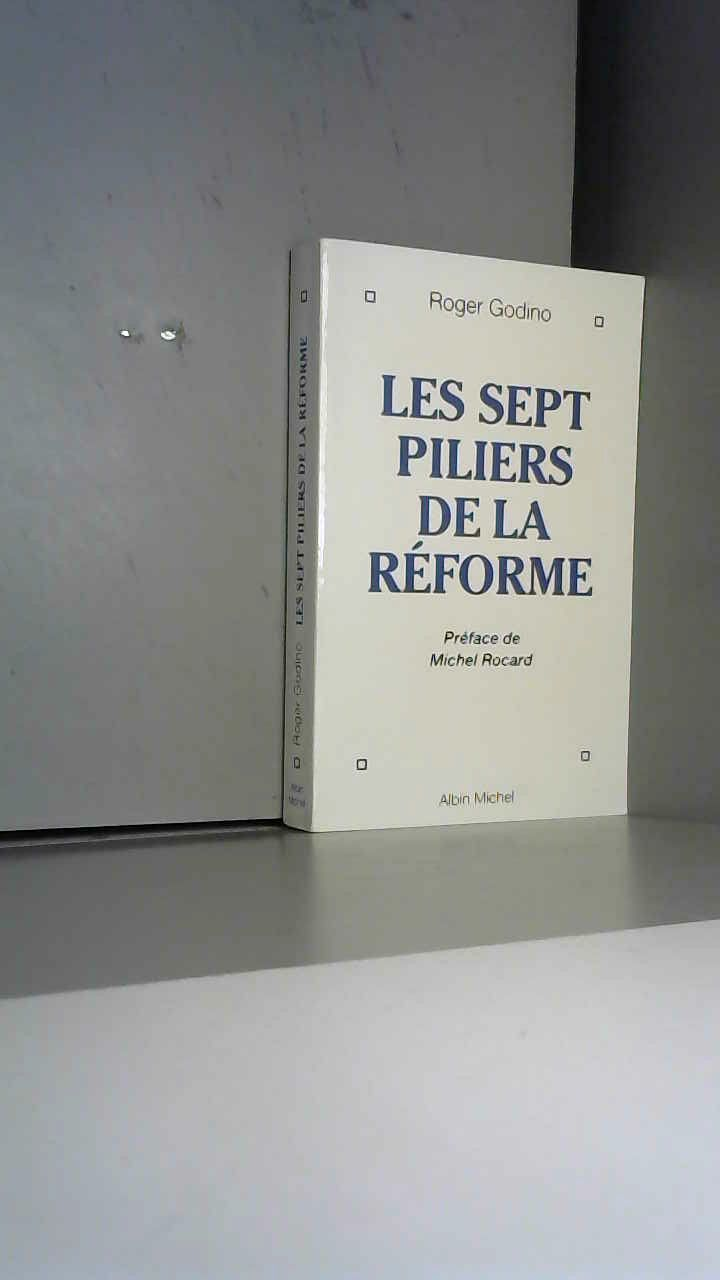book: (290, 210, 720, 902)
